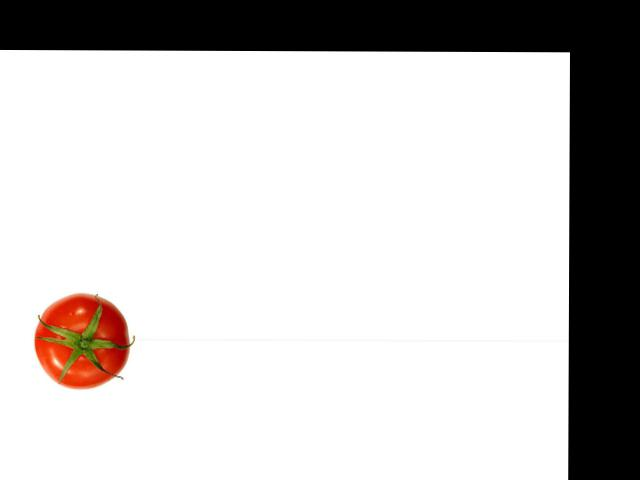tomato: (33, 293, 129, 389)
